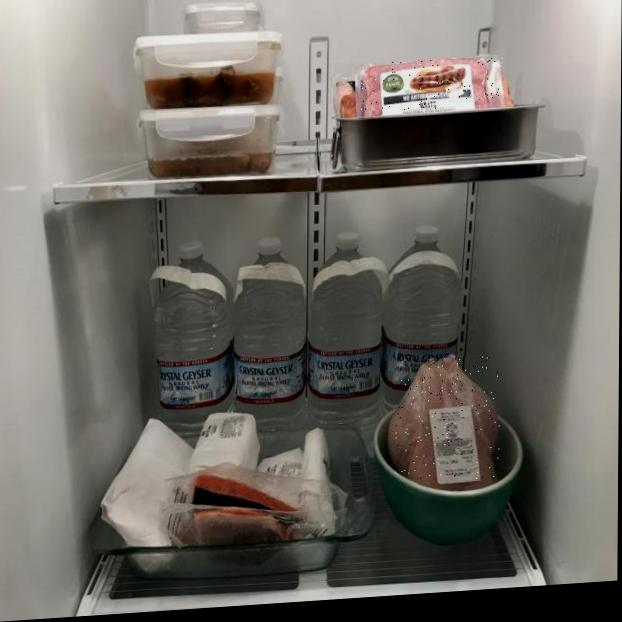beef: (361, 55, 502, 114)
chicken: (396, 355, 501, 486)
